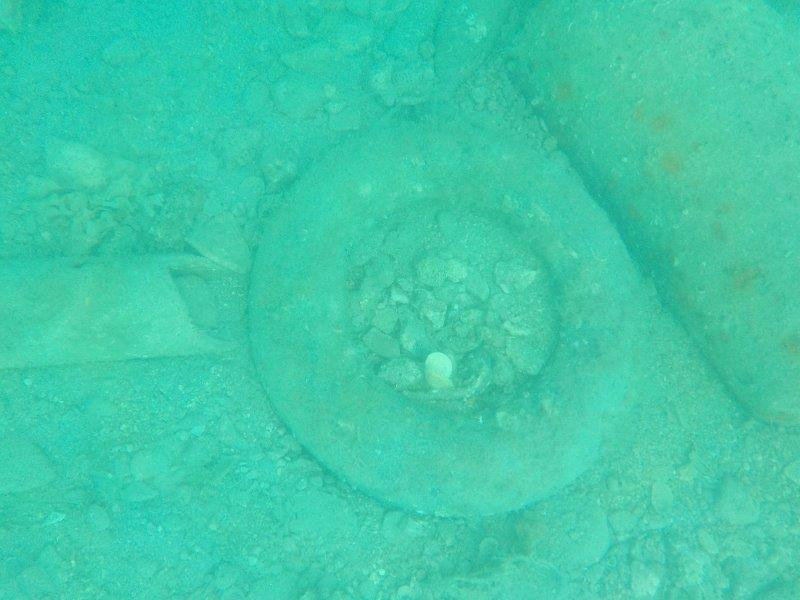tire: (250, 123, 653, 526)
